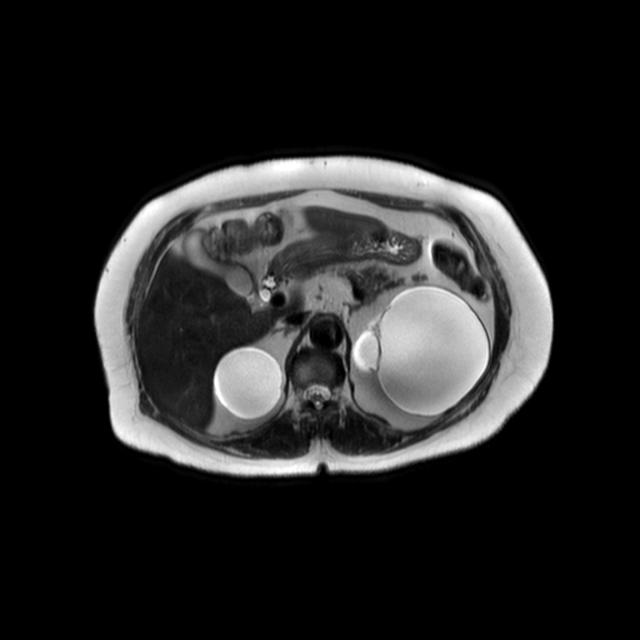sag: (213, 345, 284, 420)
sol: (352, 286, 489, 415)
